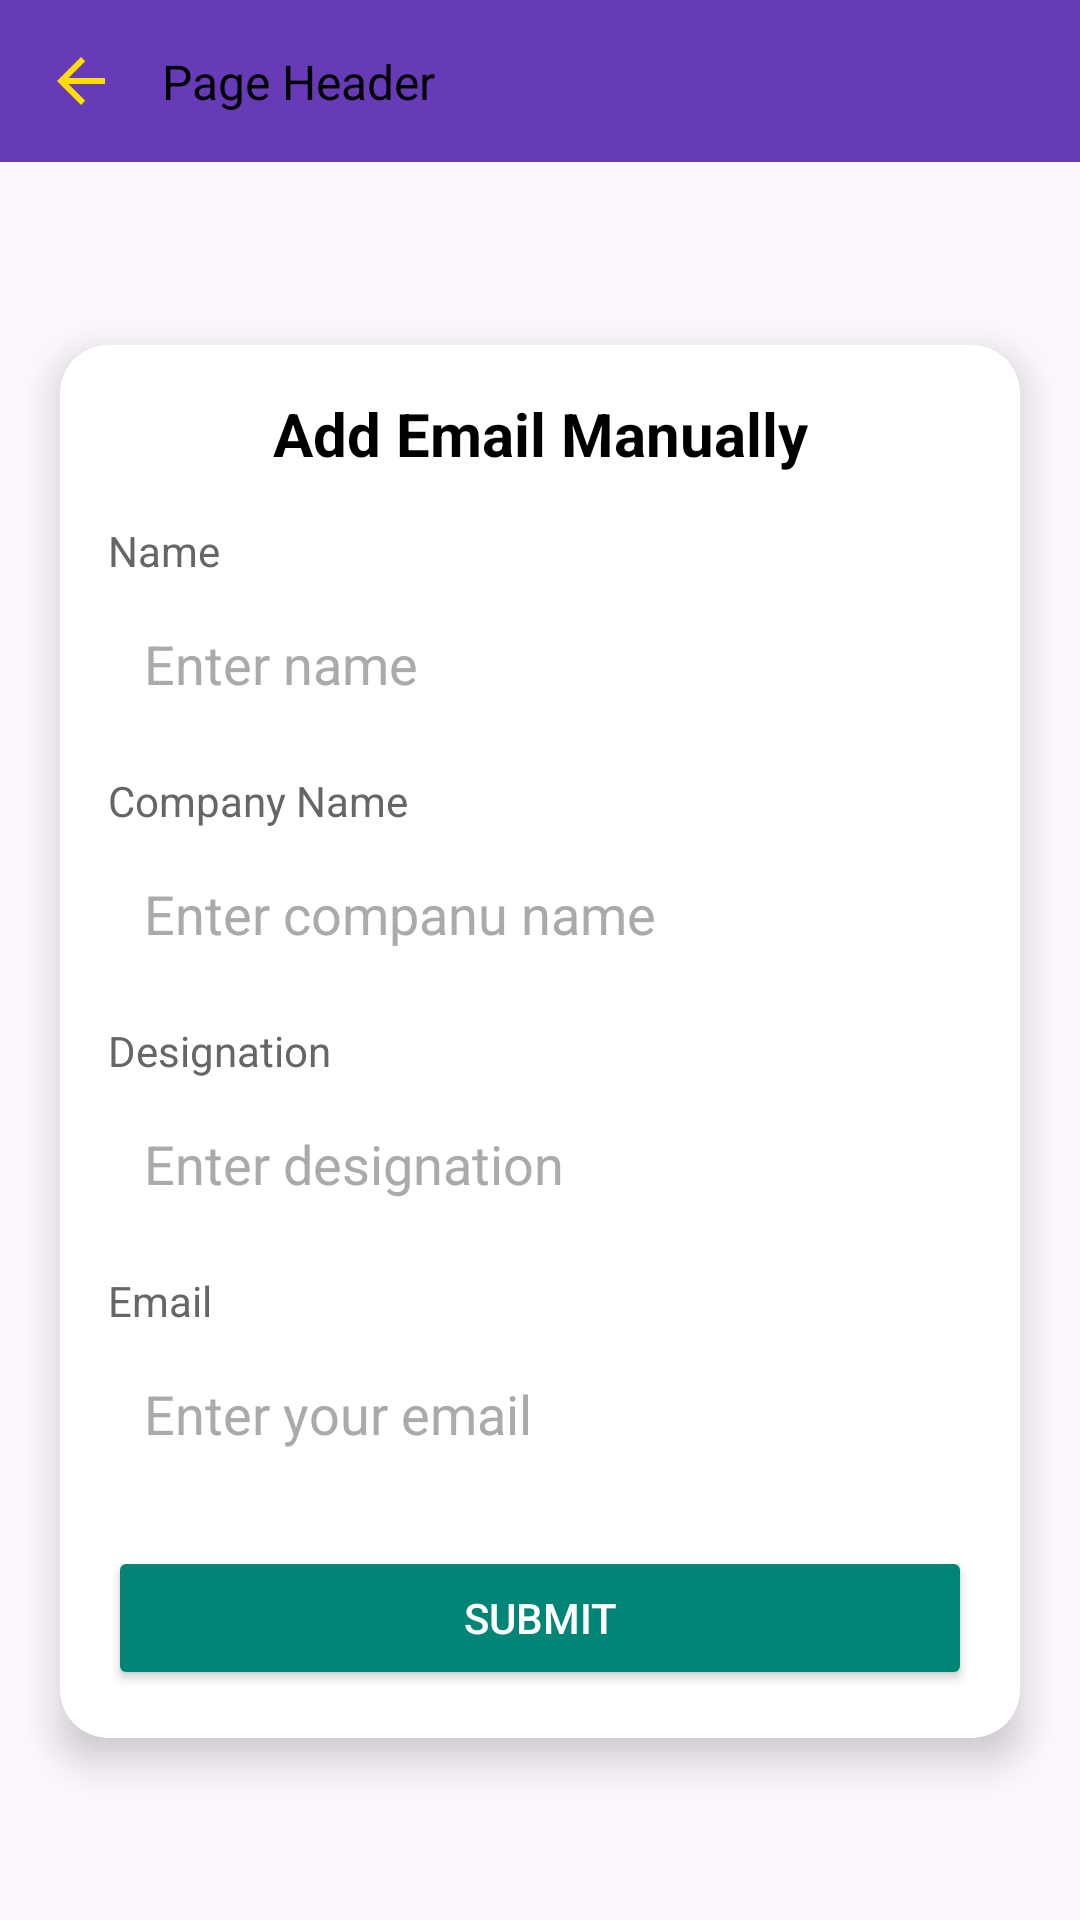

Where to tap for icons on this 1080px x 1920px app screen, as (x=x, y=y):
back arrow: (x=81, y=81)
